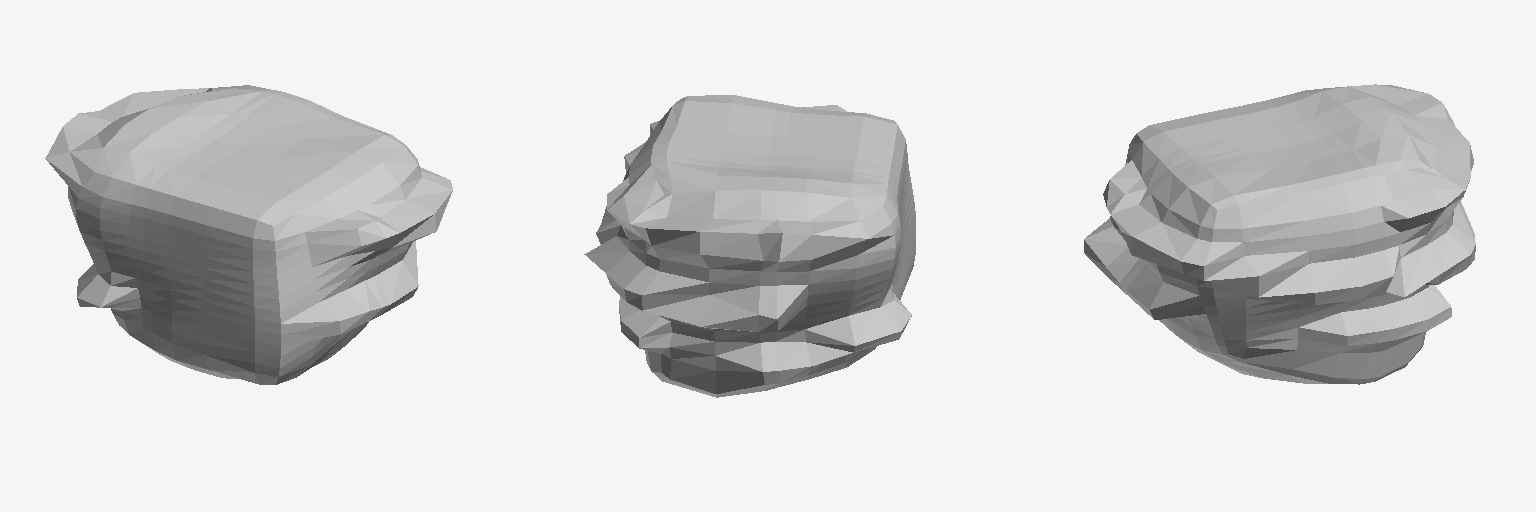
File: env_level1_Canyon_Rock23.obj
The picture shows the model from 3 angles: view 1: azimuth 30°, elevation 25°; view 2: azimuth 150°, elevation 25°; view 3: azimuth 270°, elevation 25°; orthographic projection.
Visible parts, largest first — view 1: rockwall_c06; view 2: rockwall_c06; view 3: rockwall_c06.
Boxes of the visible parts, box(x1,y1,x2,y2) form: rockwall_c06: box(45, 85, 452, 384); rockwall_c06: box(584, 95, 915, 397); rockwall_c06: box(1084, 84, 1475, 384).
Size of the model in its own units: 2442 by 1776 by 2655.